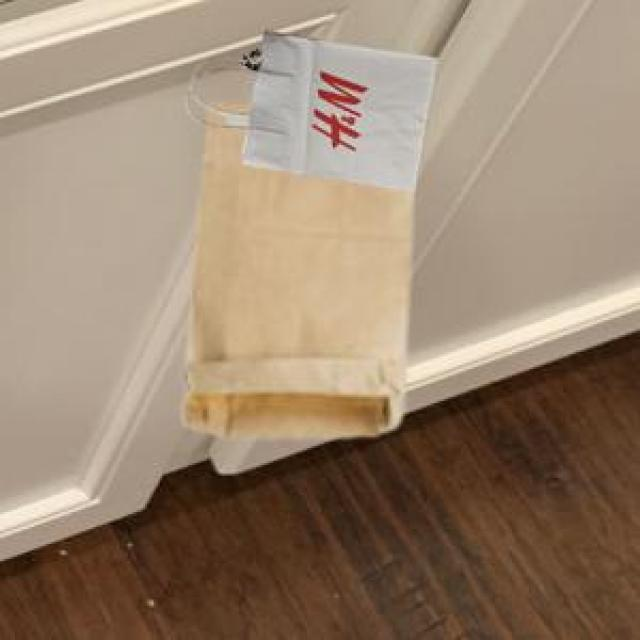Paper -Biodegradable-: (182, 29, 437, 439)
